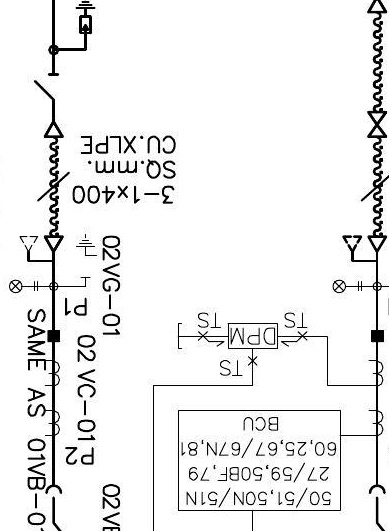22_gs: (75, 234, 99, 279)
22_ll: (332, 279, 363, 294), (8, 279, 39, 294)
DPM: (226, 322, 280, 350)
terminator_single: (42, 120, 65, 139)
terminator_splicing_kits: (367, 111, 388, 139)
terminator_w_future: (341, 234, 388, 264), (18, 234, 65, 263)
